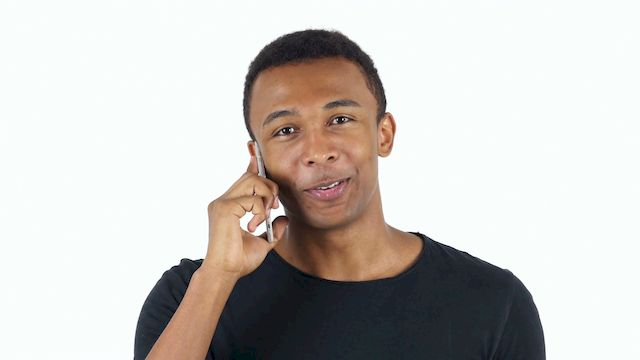phone: (241, 139, 289, 235)
talk: (209, 95, 376, 275)
